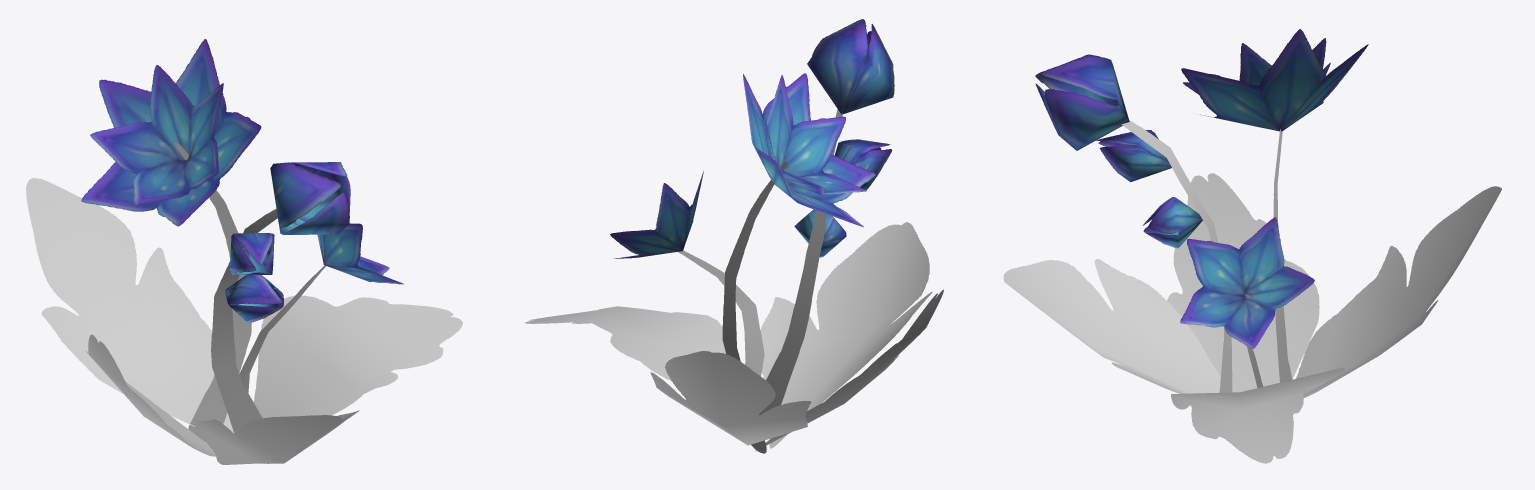
Rendered from geo_flower_03.fbx.
3 views of the same model, side by side, from view 1: azimuth 30°, elevation 25°; view 2: azimuth 150°, elevation 25°; view 3: azimuth 270°, elevation 25° (orthographic). The views are drawn at different scales.
Visible parts, largest first — view 1: Plane.041; view 2: Plane.041; view 3: Plane.041.
Part boxes in pixels (x1=…): Plane.041: x1=26, y1=39, x2=462, y2=464; Plane.041: x1=525, y1=19, x2=943, y2=453; Plane.041: x1=1003, y1=29, x2=1501, y2=463.
Size of the model in its own units: 2.17 by 2.06 by 2.44.
